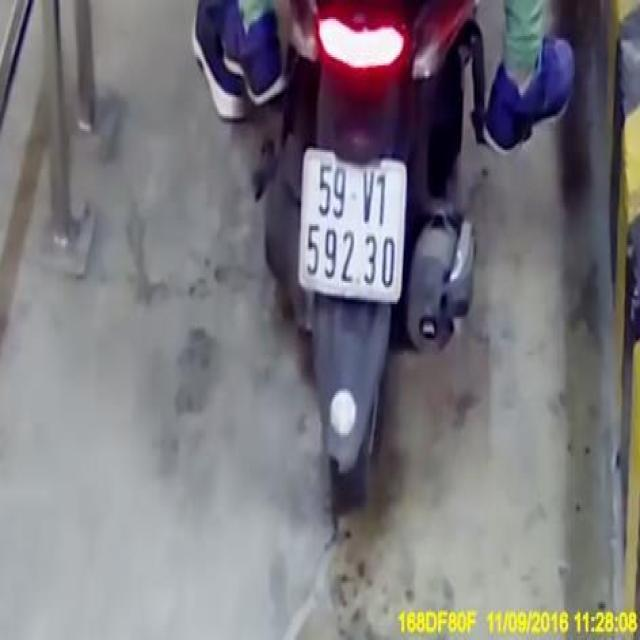bien_so: (297, 144, 408, 306)
